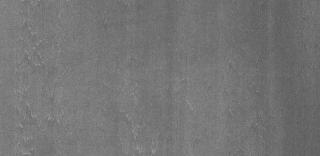silk spot: (16, 19, 68, 139), (118, 75, 162, 155)
